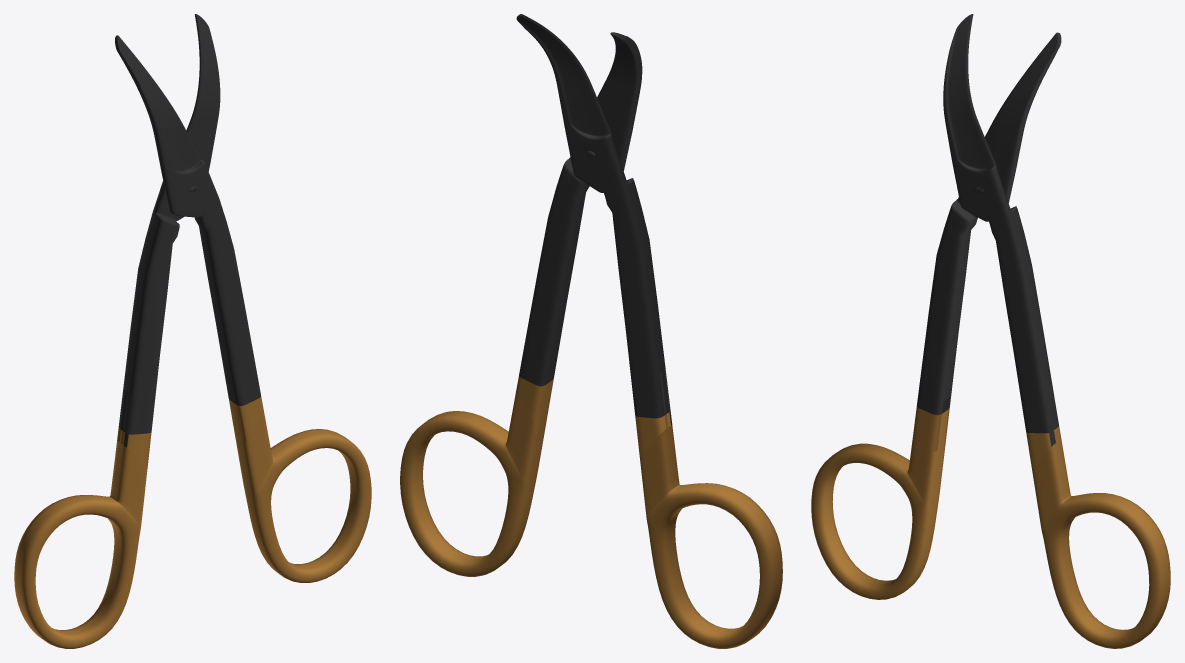
The model's file is Metzembaum scissors.fbx.
The picture shows the model from 3 angles, left to right: view 1: azimuth 30°, elevation 25°; view 2: azimuth 150°, elevation 25°; view 3: azimuth 330°, elevation 25°; orthographic projection. The views are drawn at different scales.
Visible parts, largest first — view 1: 17219_Mayo_scissors_new; view 2: 17219_Mayo_scissors_new; view 3: 17219_Mayo_scissors_new.
Boxes of the visible parts, left/top/right/bottom form: 17219_Mayo_scissors_new: left=14, top=14, right=371, bottom=648; 17219_Mayo_scissors_new: left=400, top=14, right=782, bottom=648; 17219_Mayo_scissors_new: left=811, top=14, right=1170, bottom=648.
Size of the model in its own units: 8.77 by 13.76 by 1.74.
